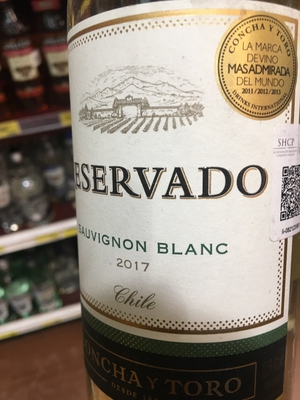reservado sauvignon blanc: (58, 6, 297, 400)
